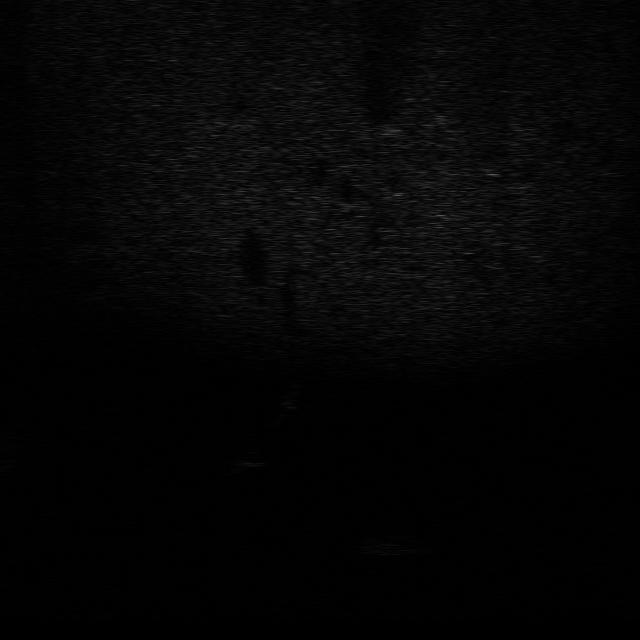ball: (232, 442, 272, 471)
circle cage: (358, 526, 433, 557)
human body: (268, 379, 304, 432)
